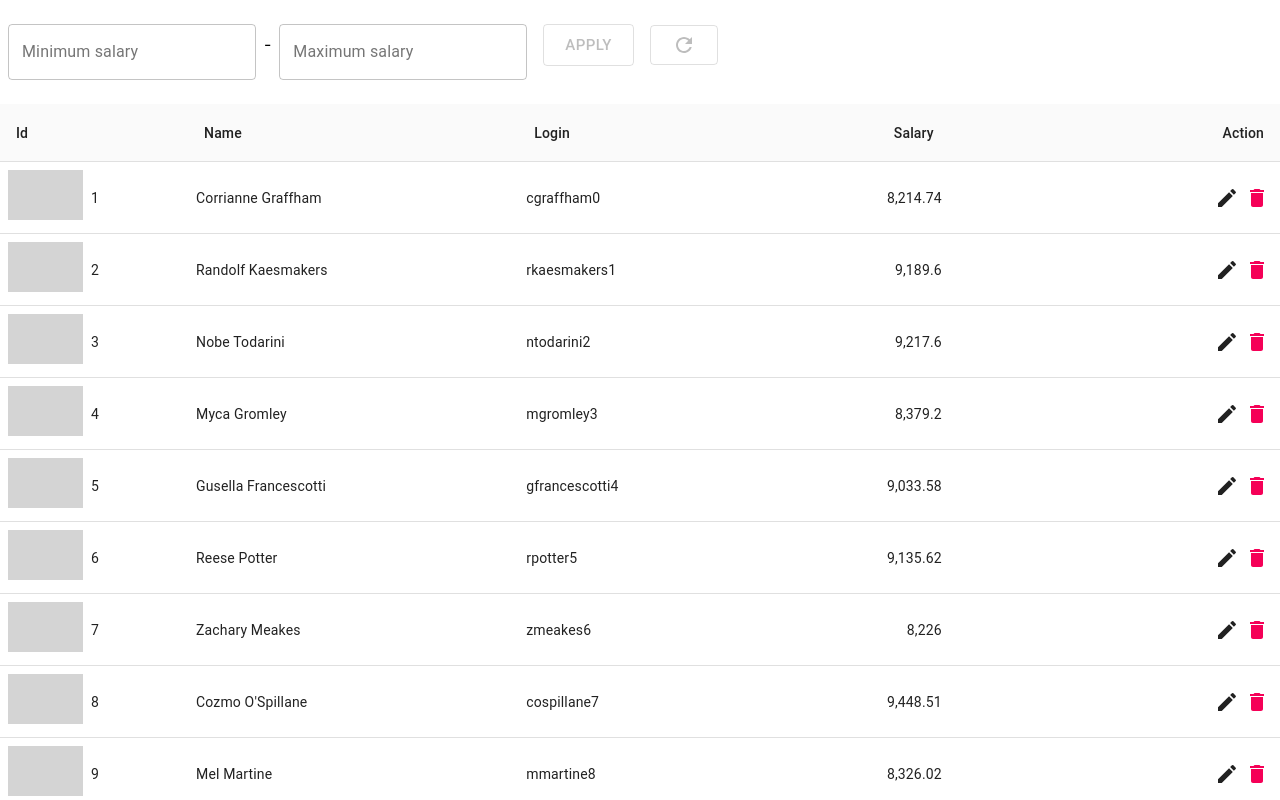
Test: EmployeesList - filter data not fonud
In the number field with id "max-salary": [403, 52] box [279,24,527,80], type "4000"
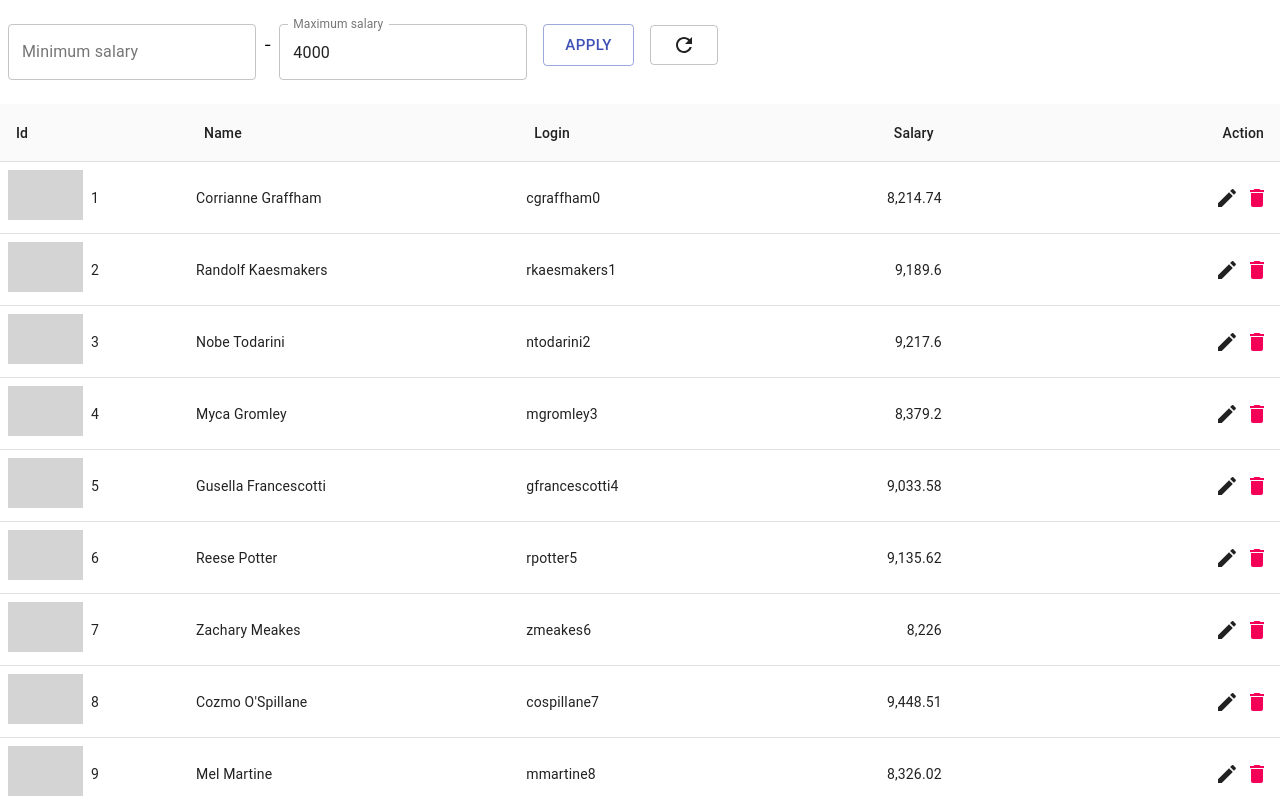
Click the button with test id "applyBtn": [589, 45] box [543,24,634,66]
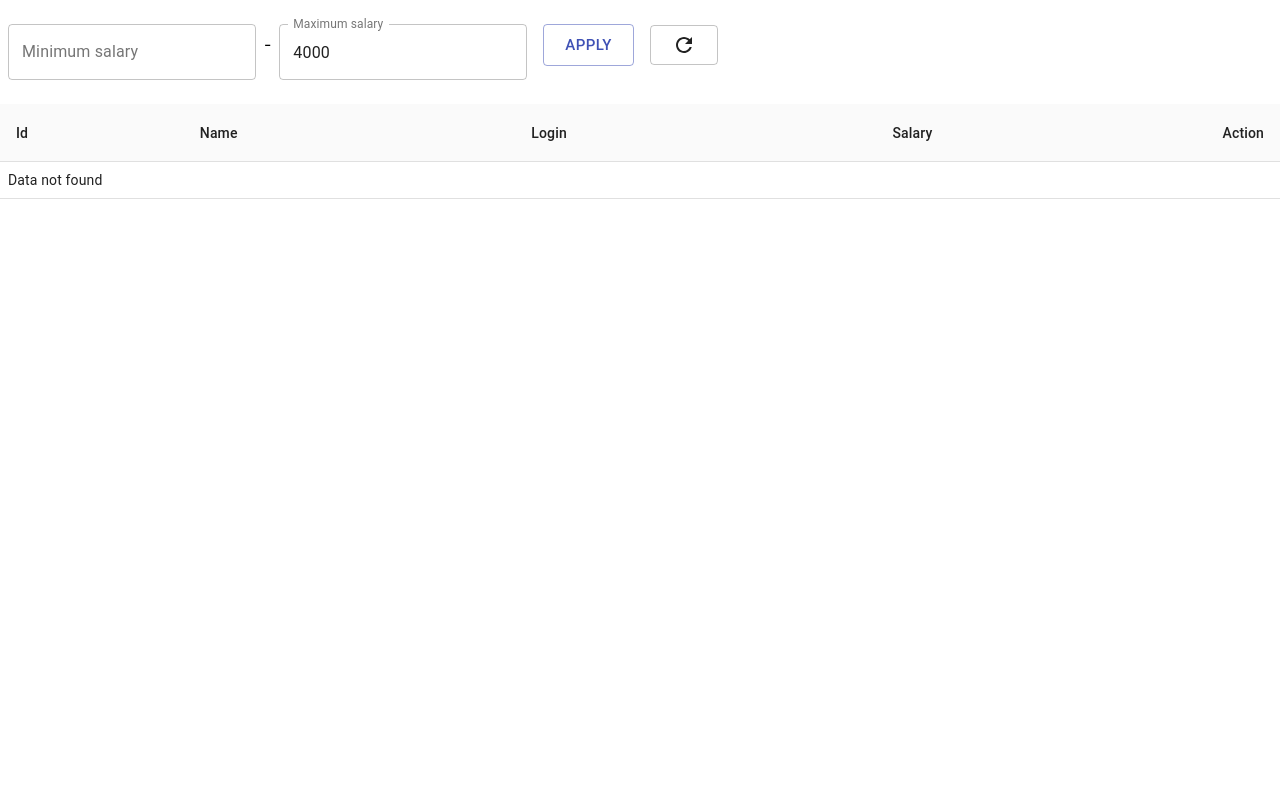
Result: the text "Data not found" is shown at [0,162,1279,199]
